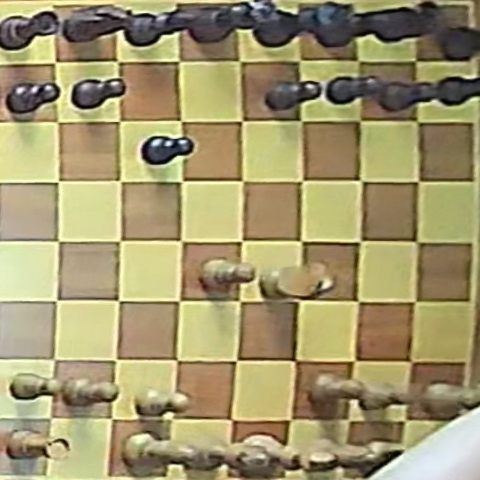black-bishop: (313, 7, 396, 50), (125, 5, 200, 46)
black-king: (250, 0, 357, 50)
black-knight: (369, 2, 445, 45), (62, 5, 133, 45)
black-pawn: (6, 82, 59, 120), (379, 80, 438, 112), (265, 80, 320, 111), (73, 78, 126, 110), (329, 76, 387, 105), (142, 136, 194, 166), (434, 75, 480, 107)
black-queen: (185, 0, 281, 44)
black-rook: (0, 10, 60, 50), (440, 22, 480, 61)
white-bishop: (123, 431, 199, 468), (310, 437, 380, 474)
white-king: (240, 433, 341, 475)
white-knight: (260, 263, 335, 300)
white-pawn: (420, 381, 480, 419), (354, 382, 420, 412), (309, 374, 365, 407), (200, 258, 256, 289), (135, 387, 191, 418), (63, 378, 120, 407), (9, 372, 59, 400)
white-queen: (183, 440, 270, 472)
white-rook: (5, 431, 70, 460)
